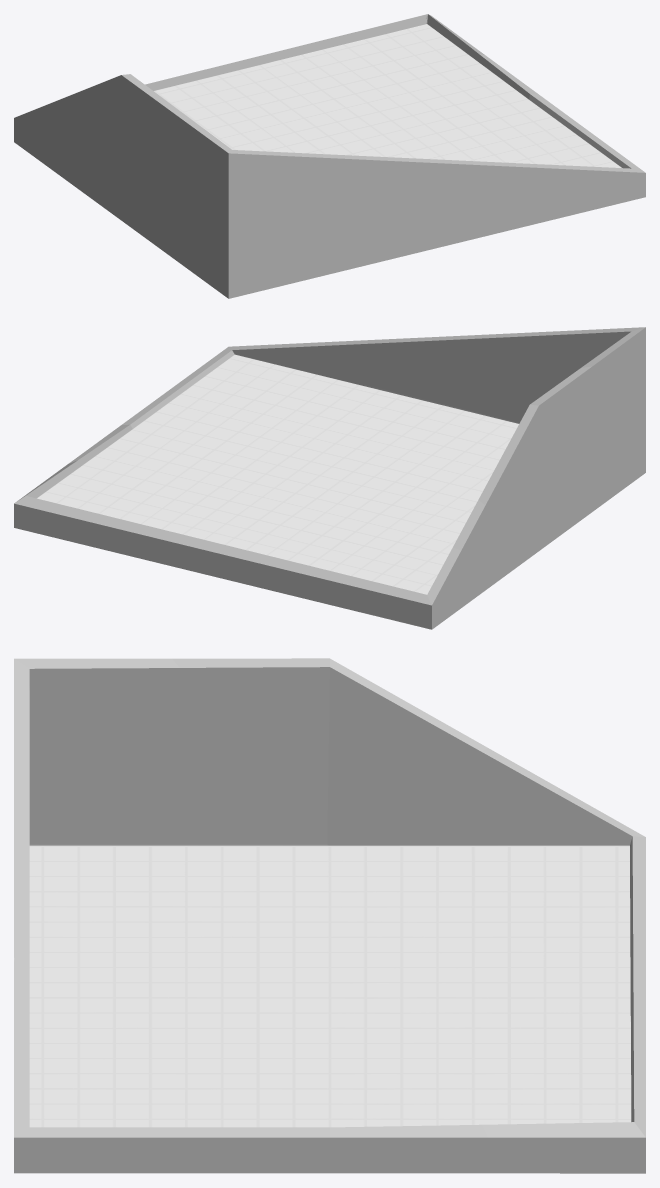
The model's file is Ceiling.fbx.
The picture shows the model from 3 angles, top to bottom: view 1: azimuth 30°, elevation 25°; view 2: azimuth 150°, elevation 25°; view 3: azimuth 270°, elevation 25°; orthographic projection. The views are drawn at different scales.
Visible parts, largest first — view 1: Plane.001; view 2: Plane.001; view 3: Plane.001.
Boxes of the visible parts, x1,y1,x2,y2 form: Plane.001: [14, 14, 645, 298]; Plane.001: [14, 327, 645, 629]; Plane.001: [14, 658, 645, 1173].
Bounding box in the file's own units: 8.01 × 9.01 × 3.
Materials: 1 (1 with a texture image).
